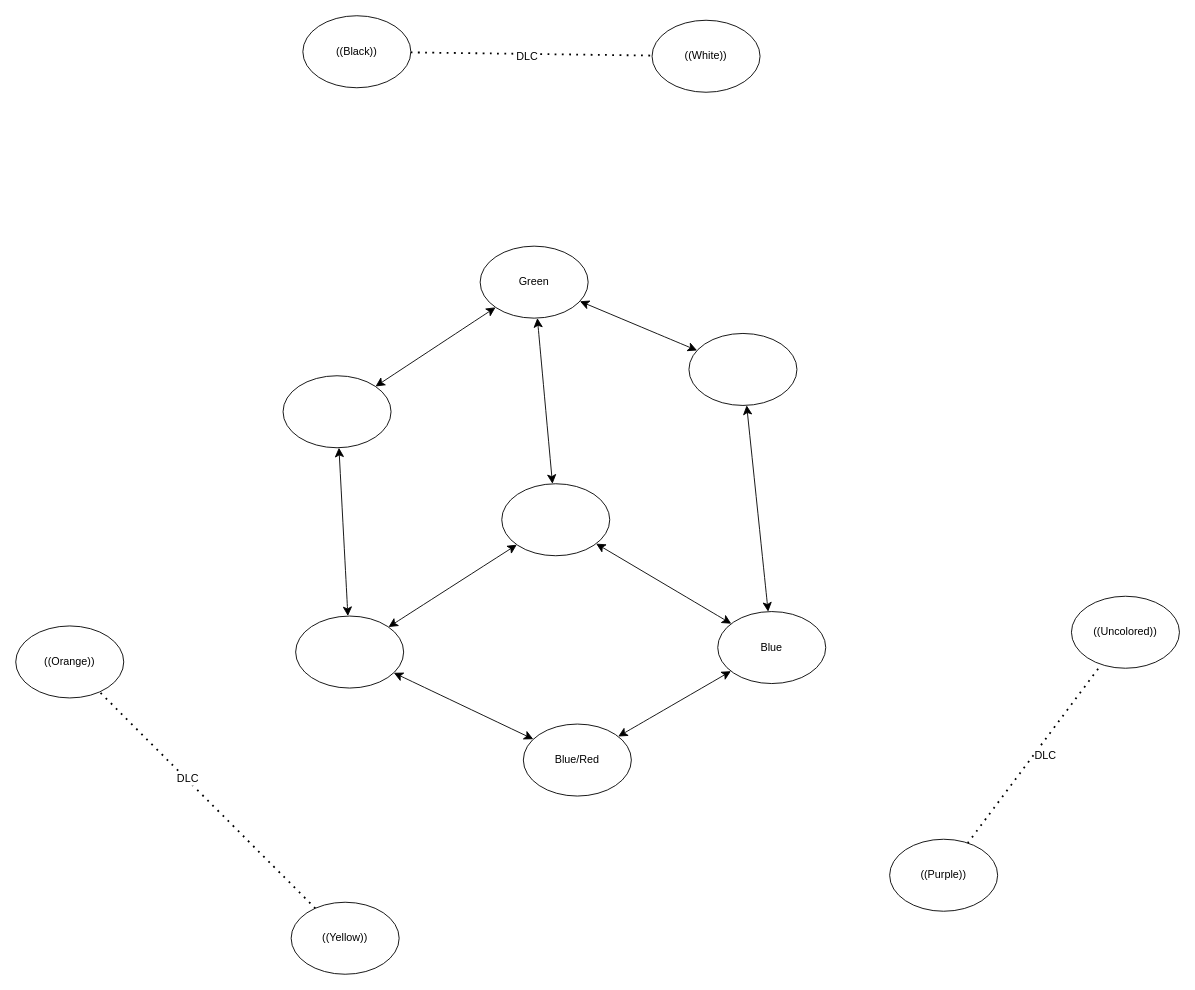
This 1195x990 diagram has some shape labels left out. Here are the shapes that lost their labels. From the top down, the centre of each, then its label:
At point 742,369: "Green/Blue".
At point 336,411: "Red/Green".
At point 555,519: "Hub".
At point 349,651: "Red".
